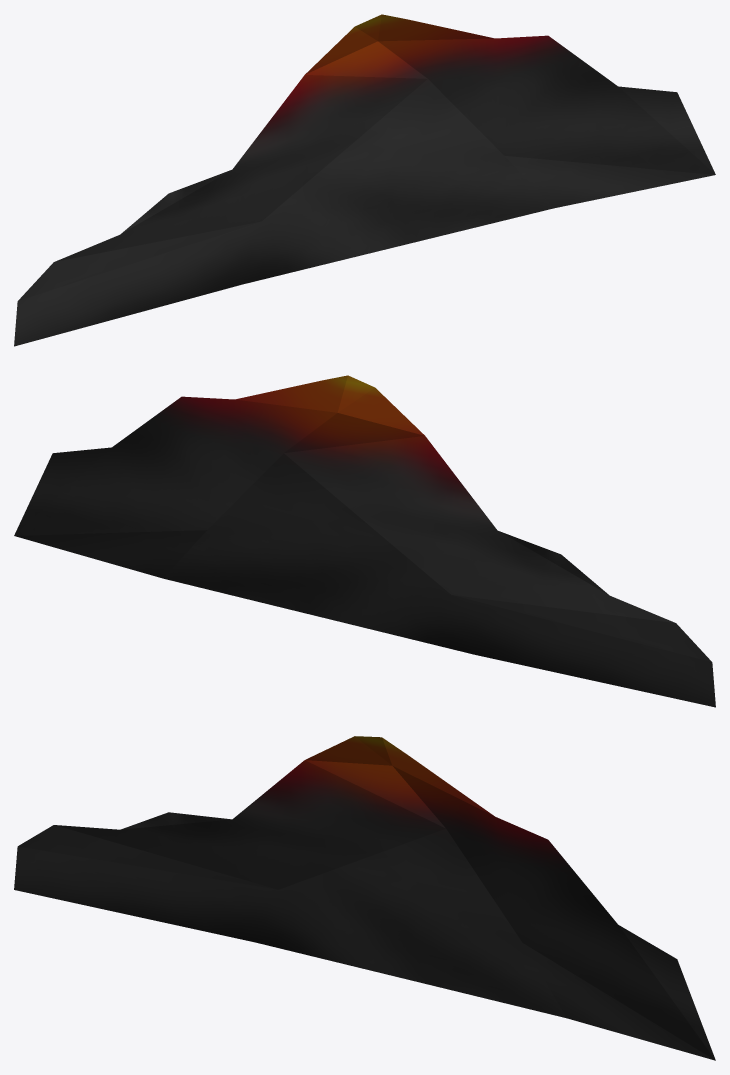
File: Terrain_Volcano_Far_1.fbx
3 renders of one model, top to bottom at view 1: azimuth 30°, elevation 25°; view 2: azimuth 150°, elevation 25°; view 3: azimuth 330°, elevation 25°, orthographic.
Parts seen in each view (by area): view 1: terrain_mountain_far_401; view 2: terrain_mountain_far_401; view 3: terrain_mountain_far_401.
Part boxes in pixels (x1,y1,x2,y2): terrain_mountain_far_401: [14, 14, 715, 346]; terrain_mountain_far_401: [14, 375, 715, 707]; terrain_mountain_far_401: [14, 736, 715, 1060].
Bounding box in the file's own units: 24502 × 8086 × 551.
1 material, 1 textured.
